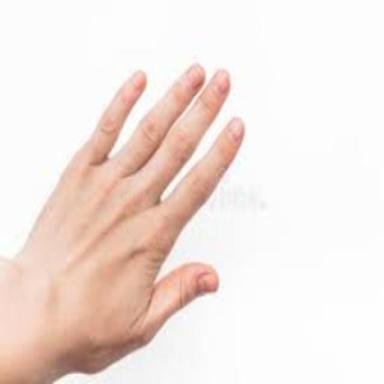normal skin: (0, 65, 243, 384)
